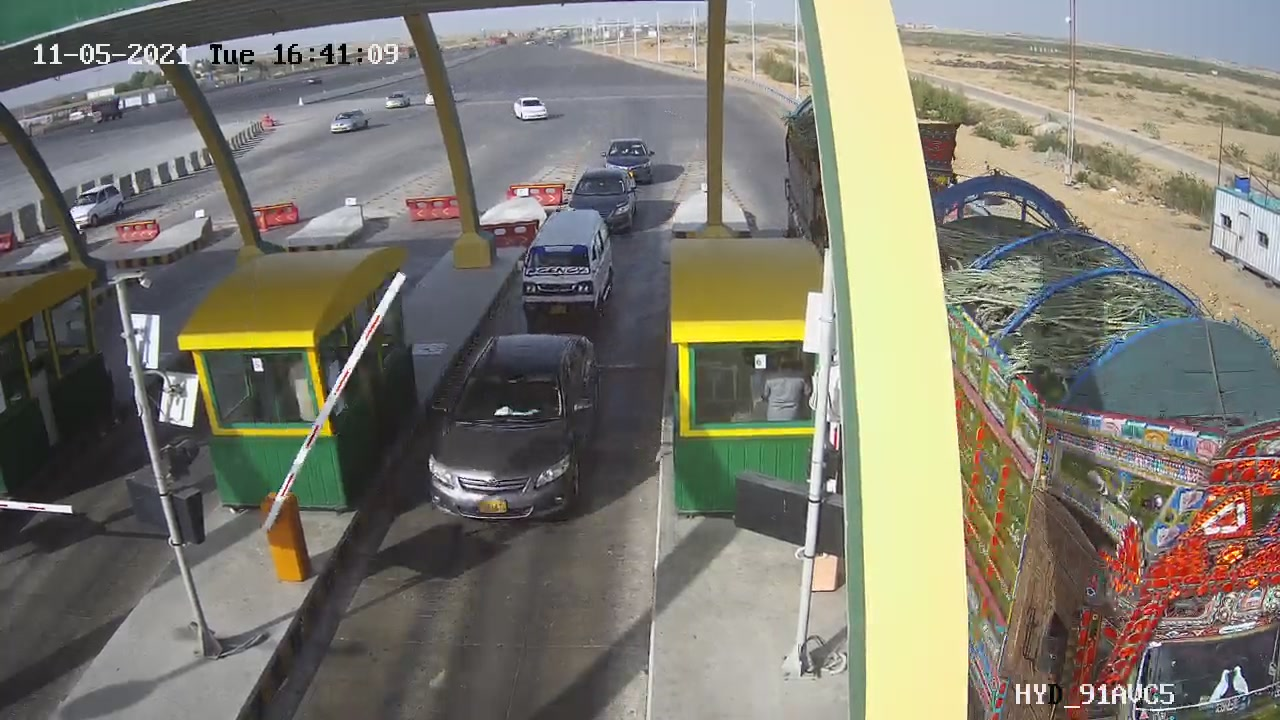F1: (410, 320, 619, 538), (502, 198, 633, 333)
